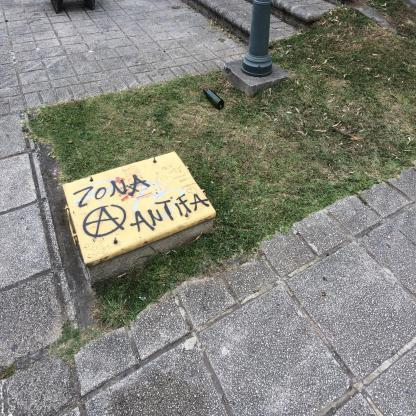cam: (204, 89, 226, 111)
